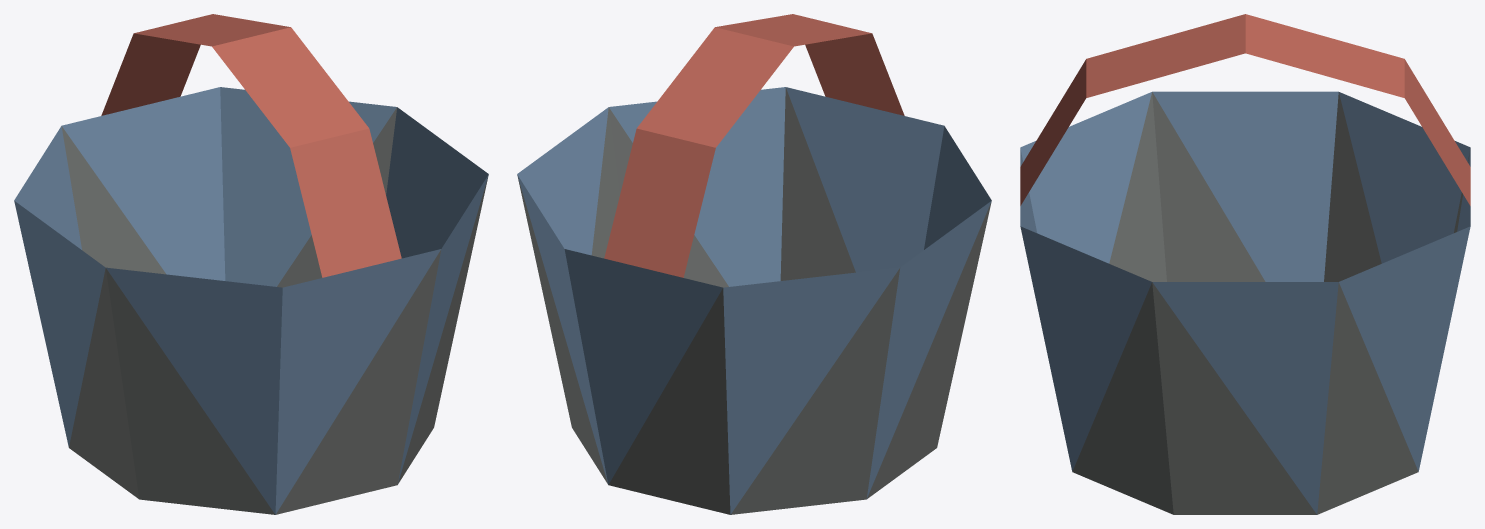
Rendered from bucket.glb.
3 renders of one model, left to right at view 1: azimuth 30°, elevation 25°; view 2: azimuth 150°, elevation 25°; view 3: azimuth 270°, elevation 25°, orthographic.
Bounding box in the file's own units: 1 × 1 × 1.
